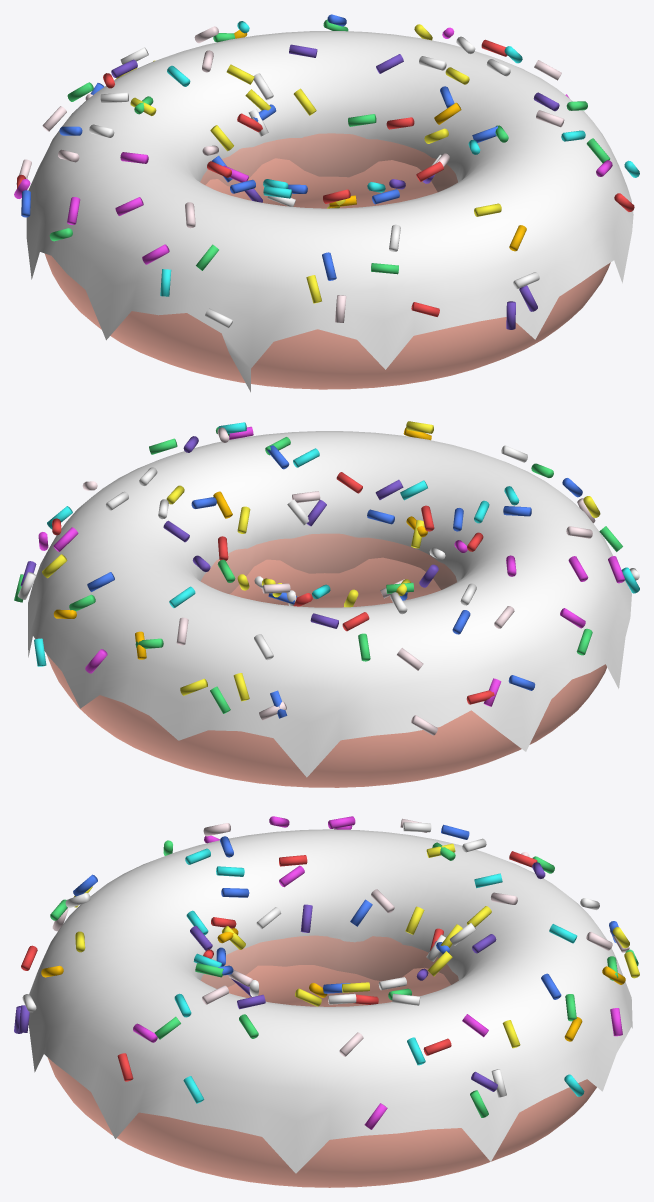
File: donut.glb
The picture shows the model from 3 angles, top to bottom: view 1: azimuth 30°, elevation 25°; view 2: azimuth 150°, elevation 25°; view 3: azimuth 270°, elevation 25°; orthographic projection.
Visible parts, largest first — view 1: Frosting, Donut; view 2: Frosting, Donut; view 3: Frosting, Donut.
Part boxes in pixels (left/top/right/bottom): Frosting: left=26, top=31, right=633, bottom=392; Donut: left=44, top=133, right=610, bottom=389; Frosting: left=28, top=431, right=631, bottom=777; Donut: left=46, top=533, right=606, bottom=787; Frosting: left=28, top=829, right=632, bottom=1173; Donut: left=47, top=935, right=596, bottom=1187.
Size of what is drawn, in the model's own units: 3.01 by 0.9795 by 3.02.
